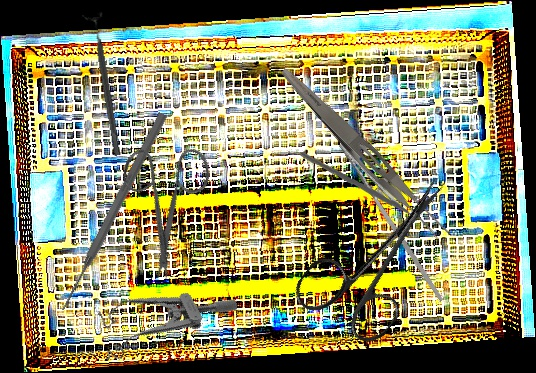Chopper: (299, 145, 427, 240)
Dressing Forceps: (272, 63, 454, 246)
Fixation Ring: (81, 11, 129, 158)
Iris Scissors: (288, 149, 479, 356), (88, 120, 251, 286)
Needle Holder: (320, 133, 473, 303)
Pusher: (56, 110, 170, 314)
Speculum: (85, 254, 240, 373)
